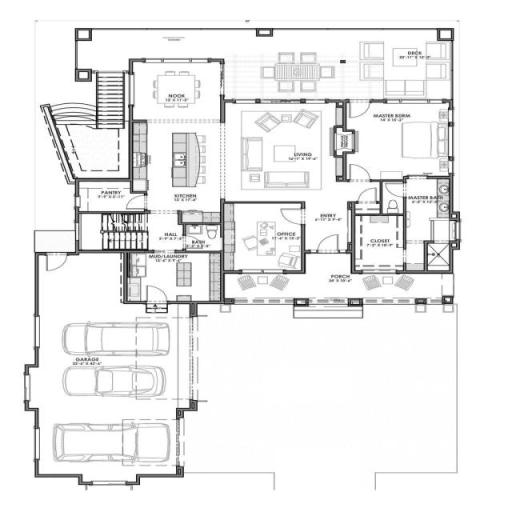Room: (354, 186, 452, 293), (150, 120, 222, 204), (232, 207, 305, 267)
garage: (41, 258, 168, 481)
hall: (231, 104, 336, 199)
kitchen: (154, 206, 220, 258)
porch: (88, 27, 460, 84)
